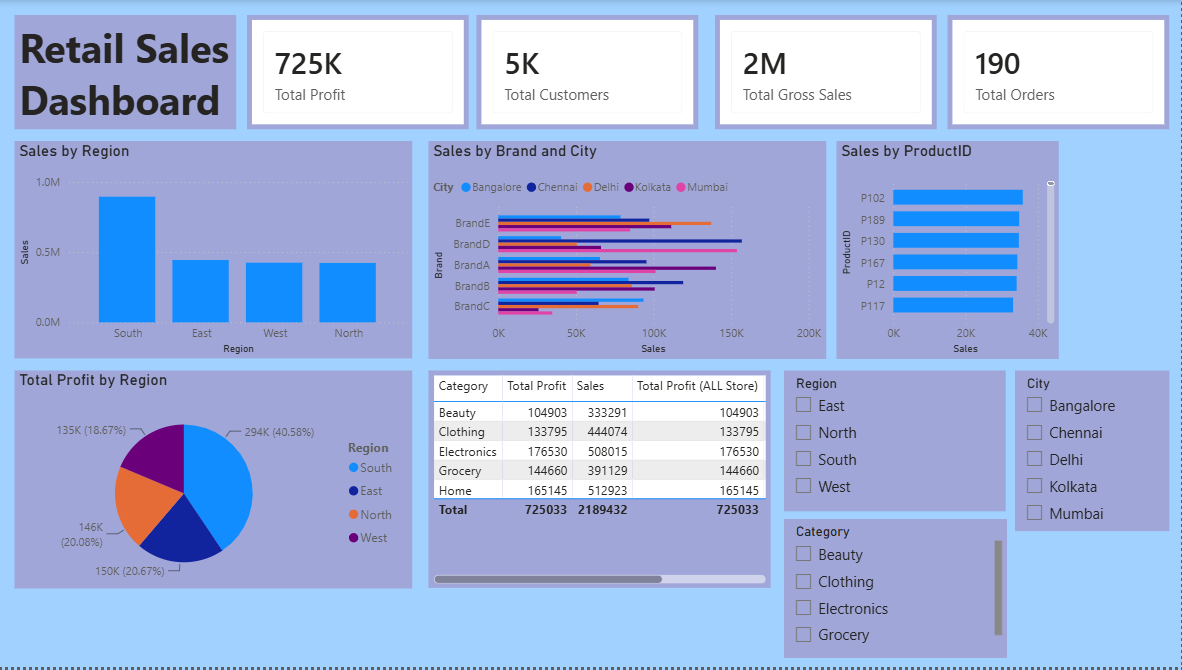

The dashboard page shown, as its layout file describes it:
{"tool":"powerbi","page":{"name":"Page 1","canvas":[1280,720],"ordinal":0},"visuals":[{"type":"textbox","box":[21,16.2,239.6,123.1],"z":0},{"type":"cardVisual","fields":{"Data":["Fact Sales.Total Profit"]},"box":[272,16.2,239.6,123.1],"z":1000},{"type":"cardVisual","fields":{"Data":["Fact Sales.Total Customers"]},"box":[519.8,16.2,239.6,123.1],"z":2000},{"type":"cardVisual","fields":{"Data":["Fact Sales.Total Gross Sales"]},"box":[777.2,16.2,239.6,123.1],"z":3000},{"type":"cardVisual","fields":{"Data":["Fact Sales.Total Orders"]},"box":[1028.2,16.2,239.6,123.1],"z":4000},{"type":"columnChart","fields":{"Y":["Fact Sales.Sales"],"Category":["Fact Sales.Region"]},"box":[21,152.2,429.1,234.8],"z":5000},{"type":"clusteredBarChart","fields":{"Y":["Fact Sales.Sales"],"Category":["Dim Product.Brand"],"Series":["Dim Customer.City"]},"box":[468,152.2,429,235],"z":6000},{"type":"pieChart","fields":{"Y":["Fact Sales.Total Profit"],"Category":["Fact Sales.Region"]},"box":[21,399.9,429,235],"z":7000},{"type":"tableEx","fields":{"Values":["Fact Sales.Category","Fact Sales.Total Profit","Fact Sales.Sales","Fact Sales.Total Profit (ALL Store)","Fact Sales.Total Quantity % BY City R"]},"box":[468,399.9,369.2,234.8],"z":7001},{"type":"barChart","fields":{"Y":["Fact Sales.Sales"],"Category":["Dim Product.ProductID"]},"box":[908.4,152.2,240,235],"z":7002},{"type":"slicer","fields":{"Values":["Fact Sales.Region"]},"box":[851.7,399.9,239.6,152.2],"z":7003},{"type":"slicer","fields":{"Values":["Fact Sales.Category"]},"box":[851.7,560.3,240,150],"z":7004},{"type":"slicer","fields":{"Values":["Fact Sales.City"]},"box":[1101.1,399.9,166.8,173.3],"z":7005}]}

Visuals, with their boxes in screenshot pixels (x1, y1, x2, y2), scaled from the page's 1280x720 canvas onto the 1182x670 screenshot:
textbox: bbox=[19, 15, 241, 130]
cardVisual - Fact Sales.Total Profit: bbox=[251, 15, 472, 130]
cardVisual - Fact Sales.Total Customers: bbox=[480, 15, 701, 130]
cardVisual - Fact Sales.Total Gross Sales: bbox=[718, 15, 939, 130]
cardVisual - Fact Sales.Total Orders: bbox=[949, 15, 1171, 130]
columnChart - Fact Sales.Sales x Fact Sales.Region: bbox=[19, 142, 416, 360]
clusteredBarChart - Fact Sales.Sales x Dim Product.Brand: bbox=[432, 142, 828, 360]
pieChart - Fact Sales.Total Profit x Fact Sales.Region: bbox=[19, 372, 416, 591]
tableEx - Fact Sales.Category x Fact Sales.Total Profit: bbox=[432, 372, 773, 591]
barChart - Fact Sales.Sales x Dim Product.ProductID: bbox=[839, 142, 1060, 360]
slicer - Fact Sales.Region: bbox=[786, 372, 1008, 514]
slicer - Fact Sales.Category: bbox=[786, 521, 1008, 661]
slicer - Fact Sales.City: bbox=[1017, 372, 1171, 533]
